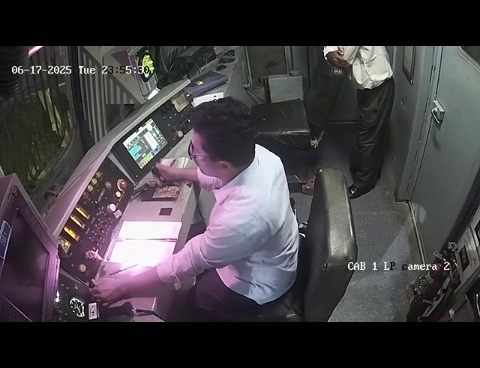horn_active: (74, 266, 130, 314)
